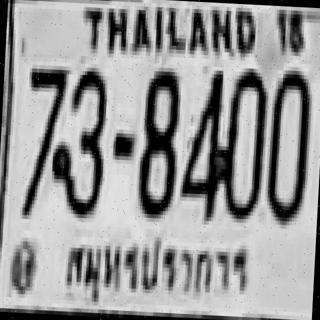N00: (264, 66, 311, 222), (220, 66, 268, 218)
N03: (54, 66, 107, 215)
N04: (179, 65, 226, 218)
N07: (20, 64, 67, 217)
N08: (135, 67, 180, 215)
P57: (56, 229, 255, 315)
